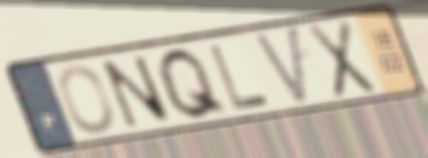L: (206, 42, 274, 111)
N: (97, 54, 176, 131)
O: (56, 62, 117, 136)
Q: (154, 45, 233, 123)
V: (250, 22, 310, 109)
X: (304, 17, 380, 102)
